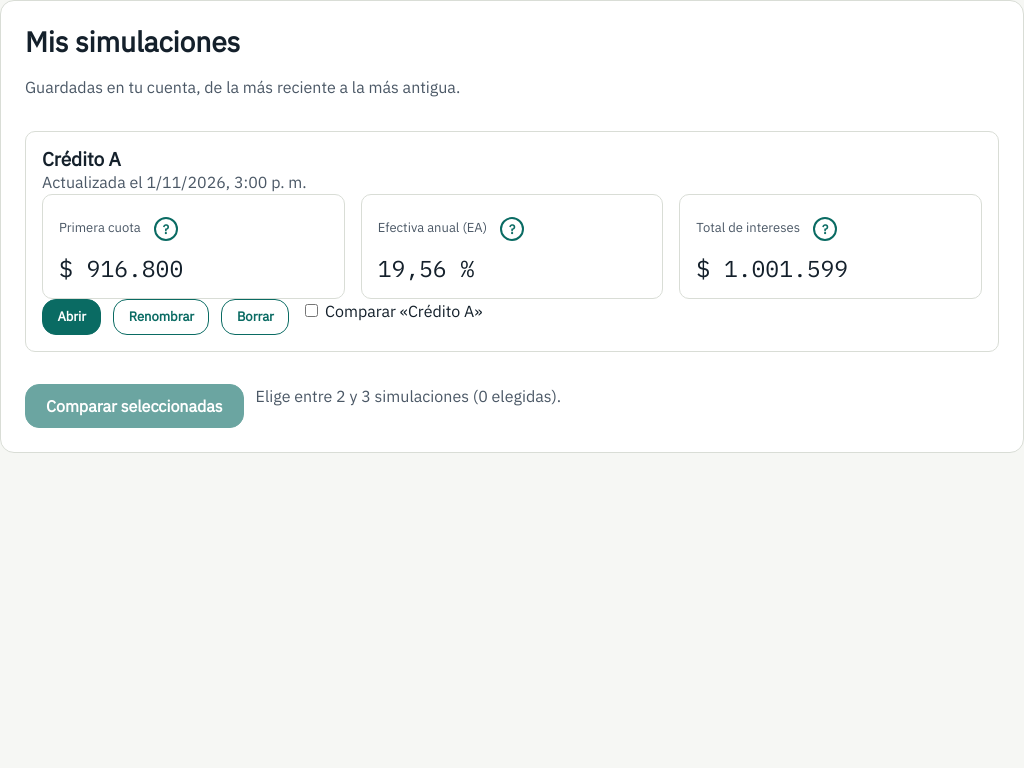
Test: HU-21: Mis simulaciones (registrado) › si renombrar falla muestra el mensaje y deja el nombre como estaba
The width and height of the screenshot is (1024, 768).
Expected: the heading "Crédito A" is shown, [42, 147, 121, 171]
Click the button with aria-label "Renombrar Crédito A" at (162, 317), box [114, 299, 210, 335]
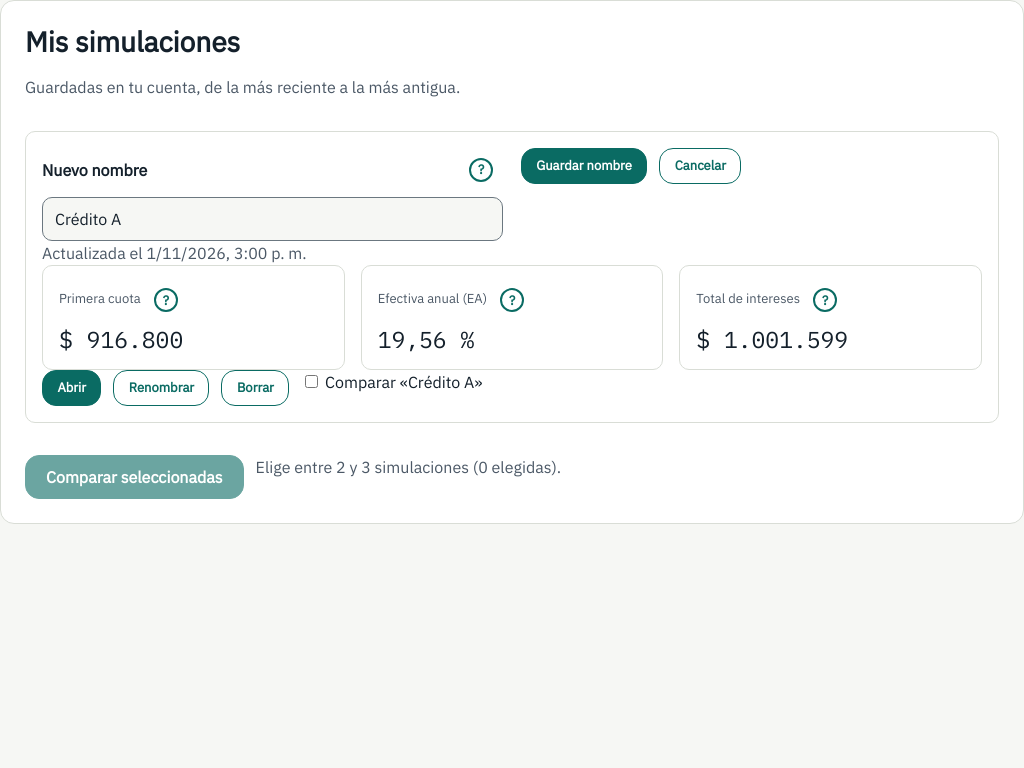
Replace the text in the field labelled "Nuevo nombre" with "Otro" at (273, 219), box [42, 197, 503, 241]
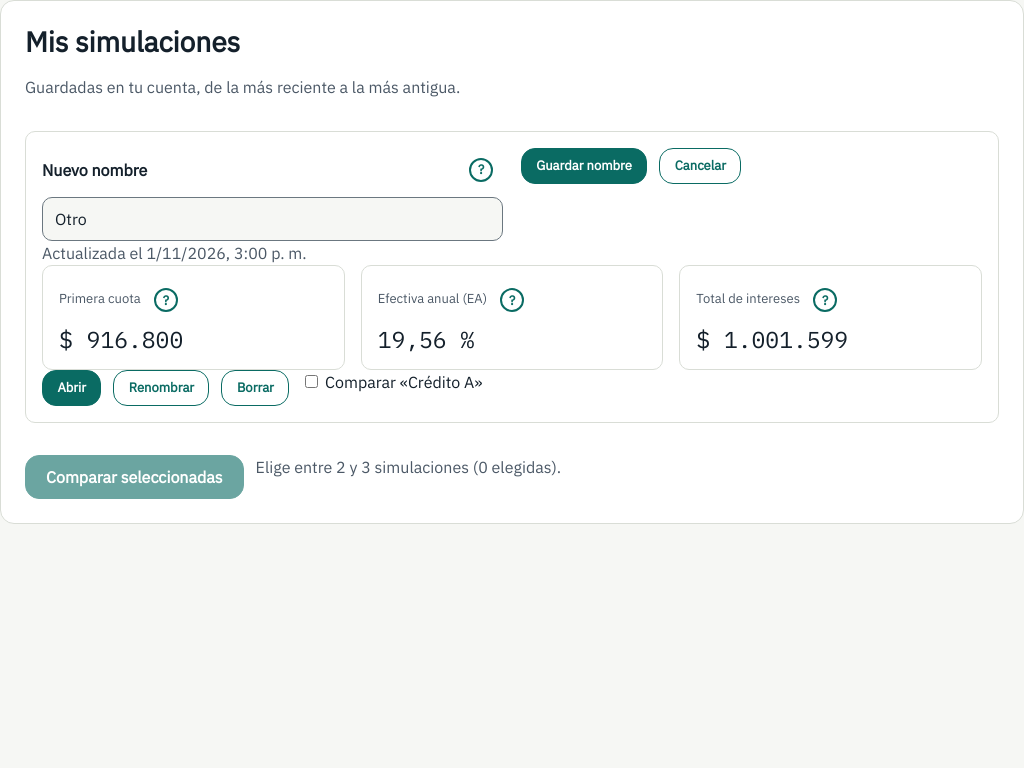
Click the button "Guardar nombre" at (584, 166), box [521, 148, 647, 184]
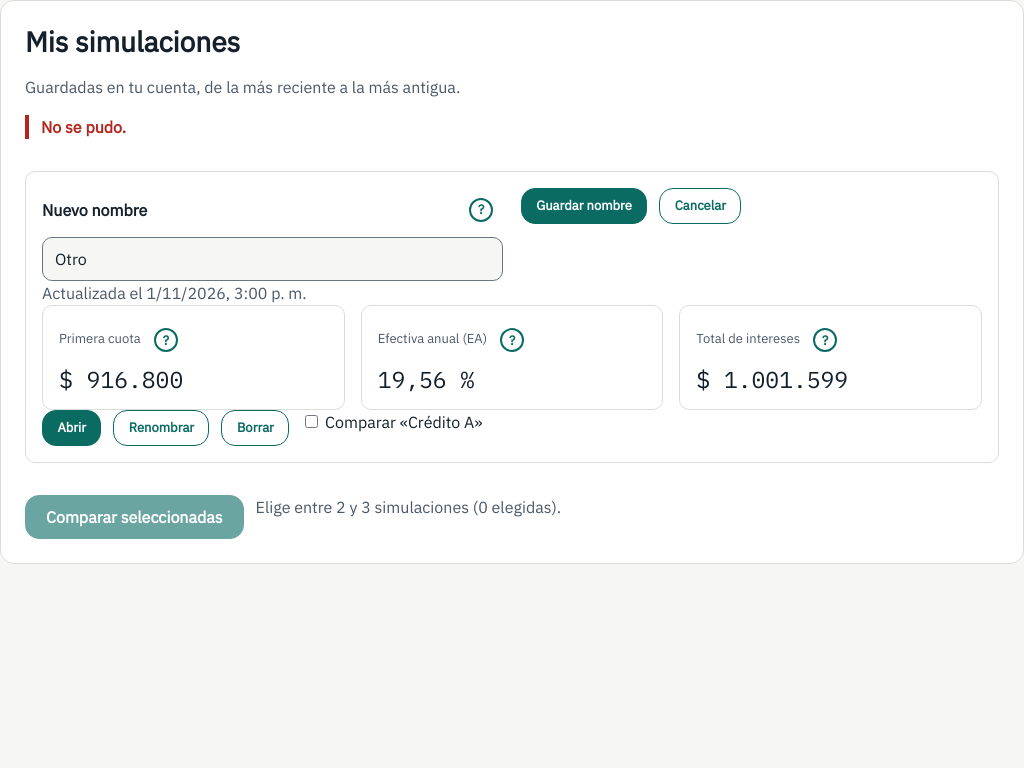
Expected: the message reads "No se pudo.", [41, 117, 126, 137]
